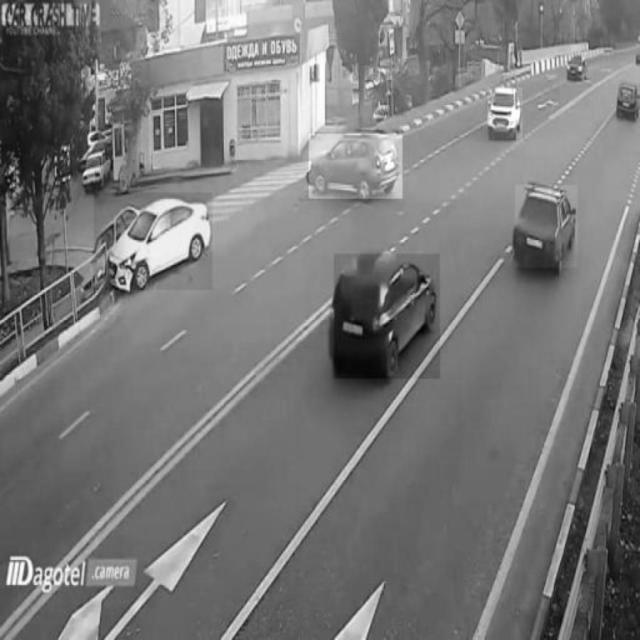accident: (94, 192, 212, 290)
vehicle: (334, 254, 440, 378), (309, 134, 402, 198), (515, 185, 577, 268), (488, 88, 523, 139)
